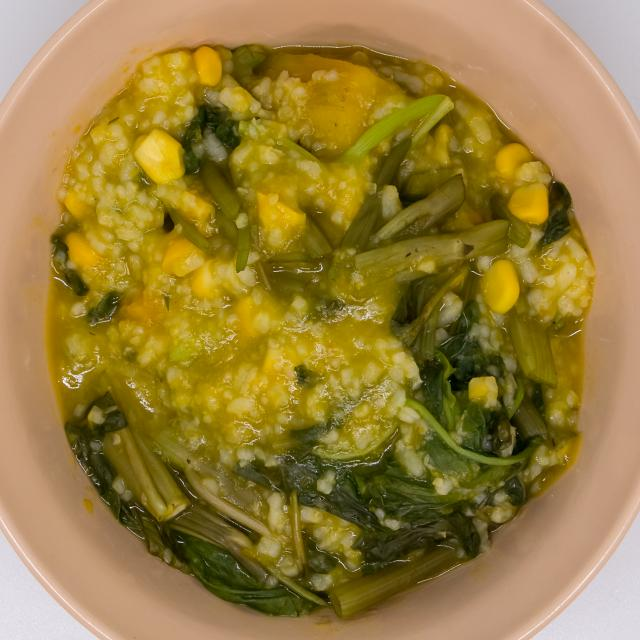Bubur-Manado: (41, 11, 599, 629)
